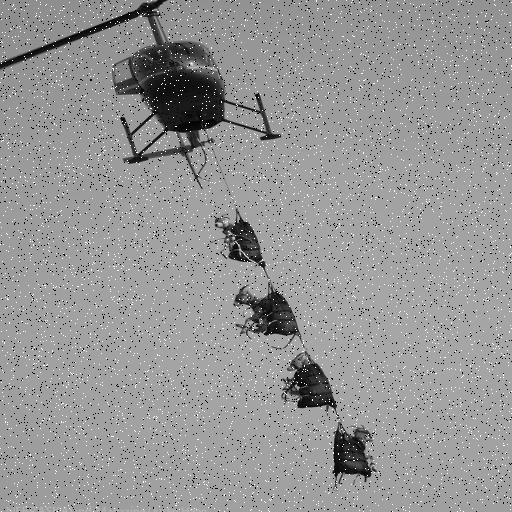helicopter: (17, 1, 303, 184)
